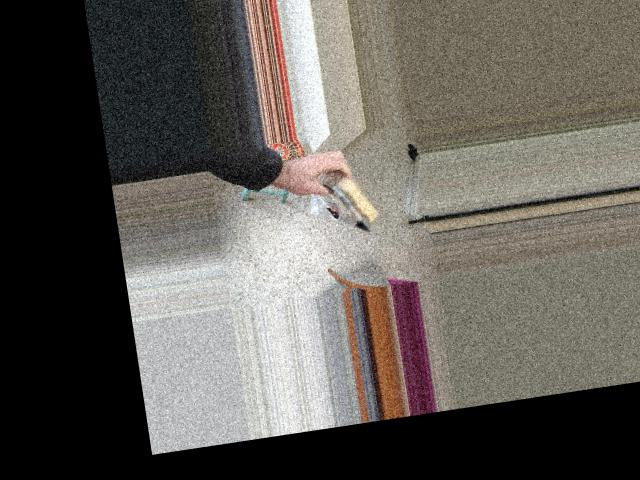cheese: (294, 134, 395, 253)
